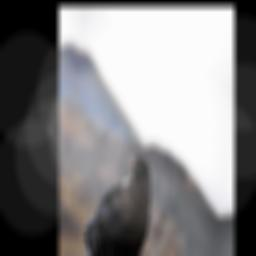Crow: (82, 126, 158, 256)
